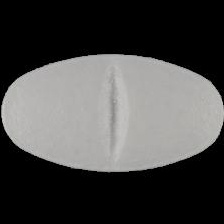63629-2844: (0, 0, 224, 224)
